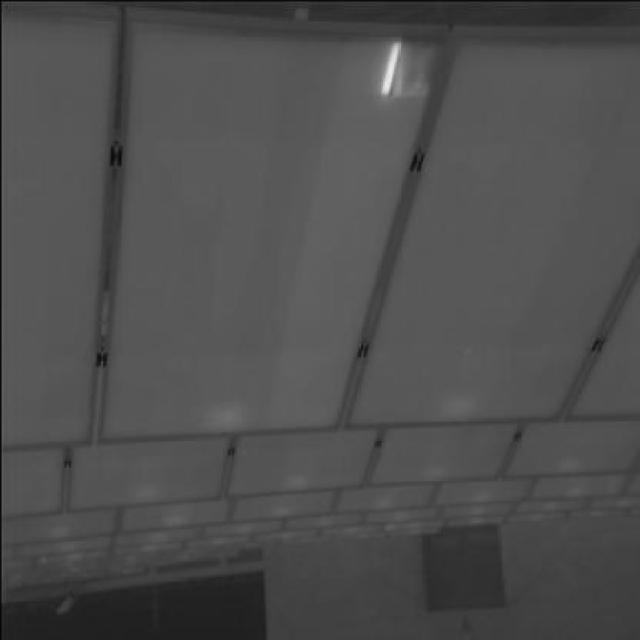hotspot: (370, 40, 436, 98)
